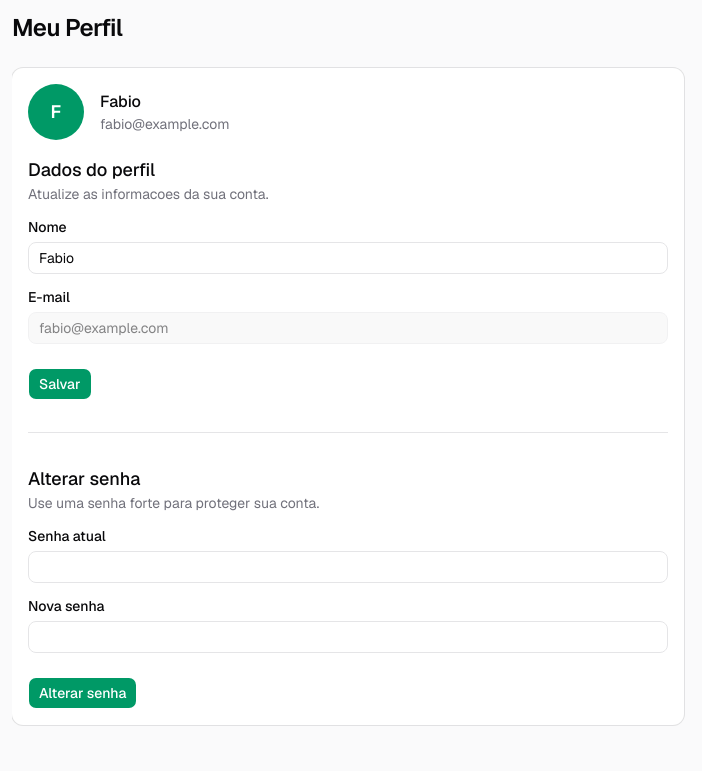
Scenario: PerfilPage › valida nova senha minima de 6 caracteres
This screenshot has width=702, height=771.
Type "senha123" into the password field labelled "Senha atual".
click(348, 567); type("senha123")  # box [28,551,668,583]
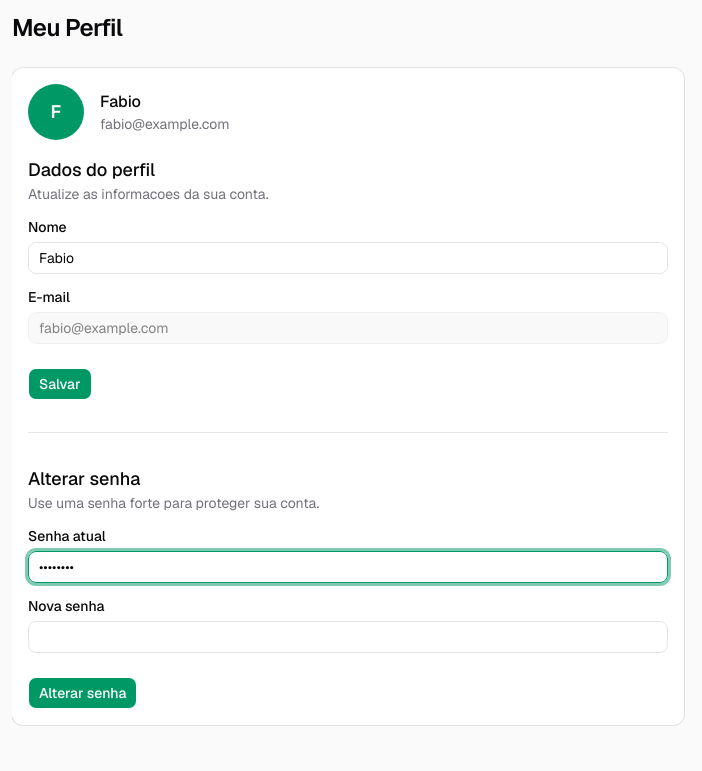
Type "abc" into the password field labelled "Nova senha".
click(348, 637); type("abc")  # box [28,621,668,653]
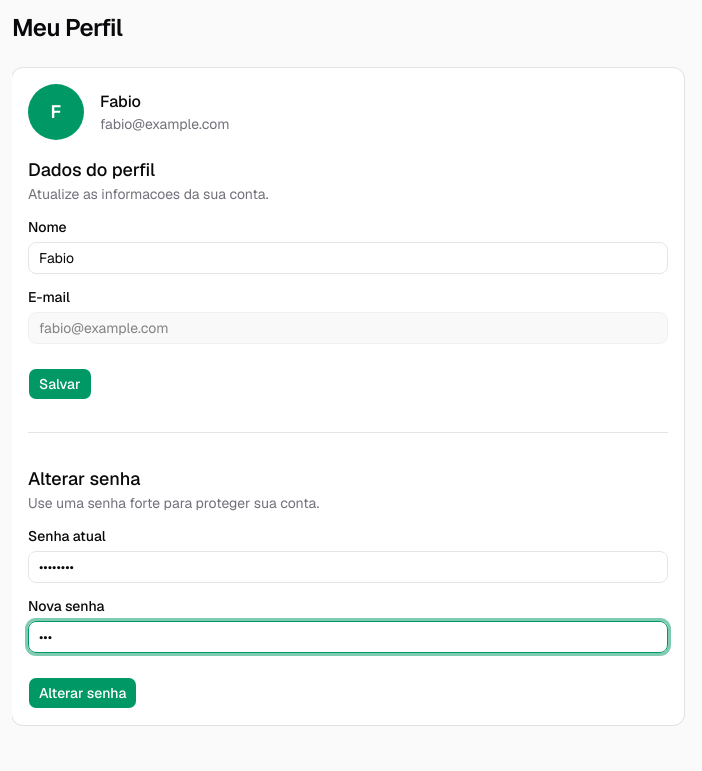
Click the button "Alterar senha".
click(83, 693)  # box [28,677,137,709]
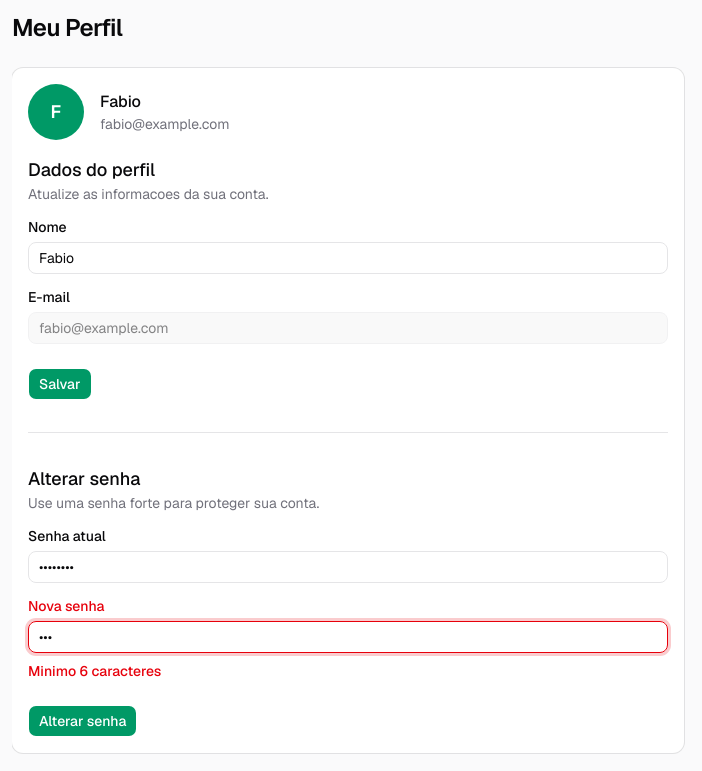
expect the text "Minimo 6 caracteres" is shown: met, box [28,662,161,680]
